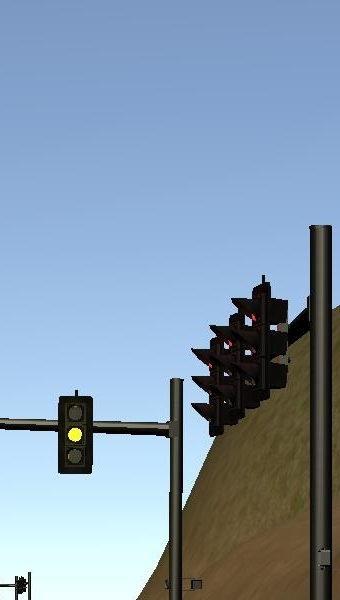Yellow: (57, 395, 92, 476)
